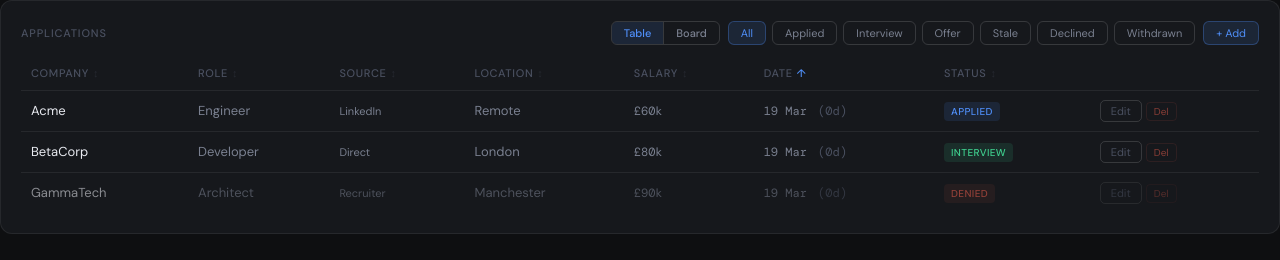
Scenario: ApplicationsTable › switches to board view when Board button is clicked
Click the button "Board" at (691, 33), box [663,22,719,44]
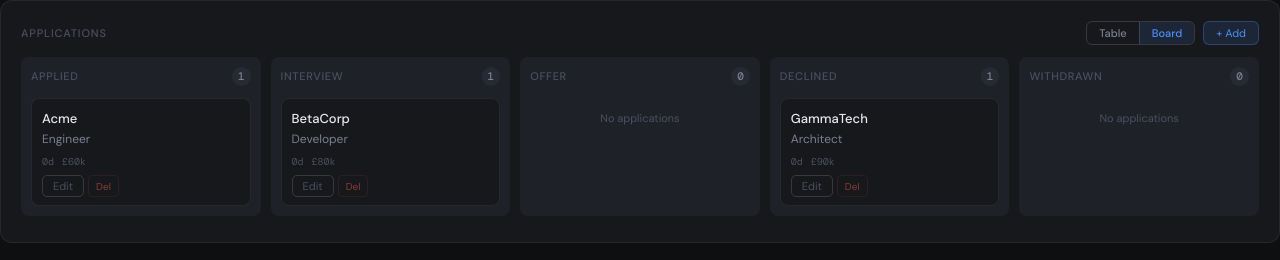
Expected: the element with class "kanban-board" is shown
